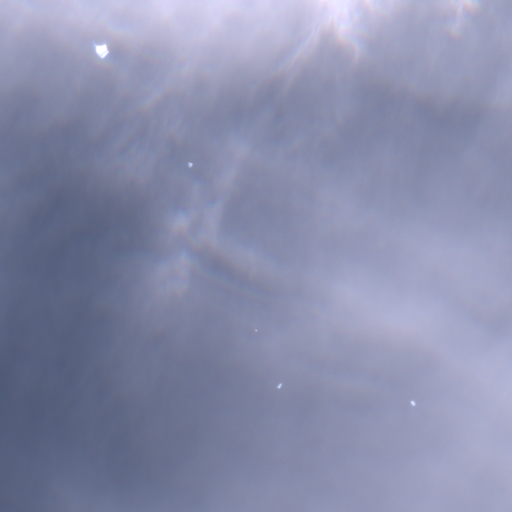Iceberg: (95, 44, 108, 57), (277, 383, 282, 388), (410, 400, 415, 405), (188, 162, 192, 167), (255, 329, 257, 331)
